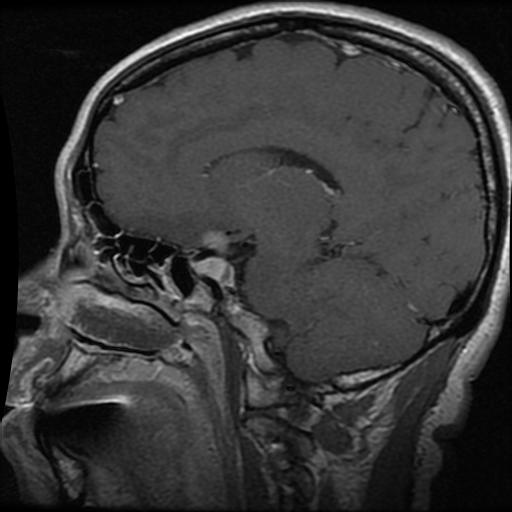Pituirity_tumour: (190, 256, 235, 285)
